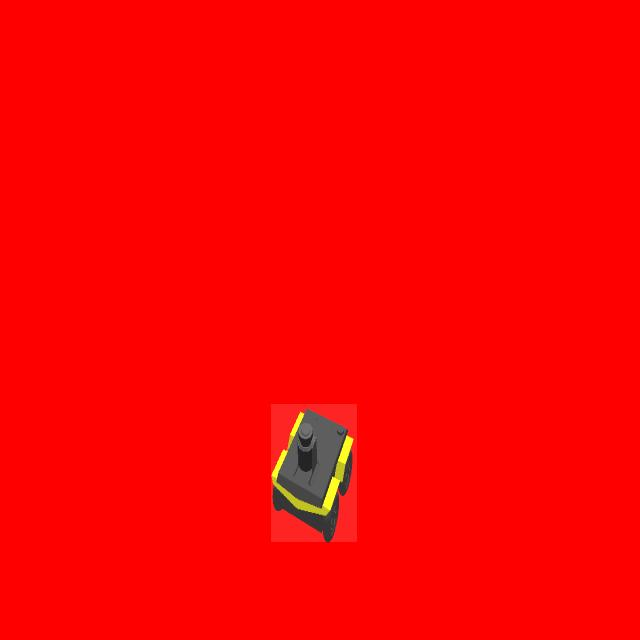jackal: (271, 404, 357, 542)
